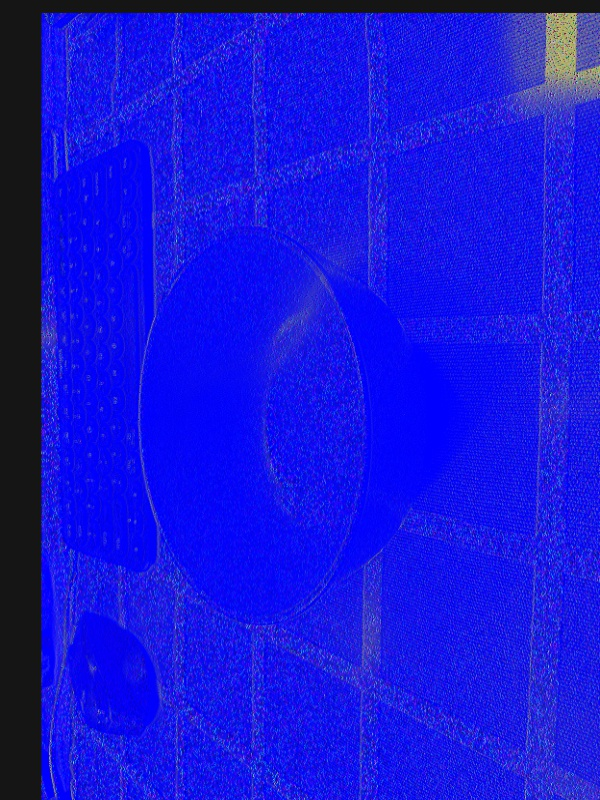bowl_big: (134, 220, 434, 634)
